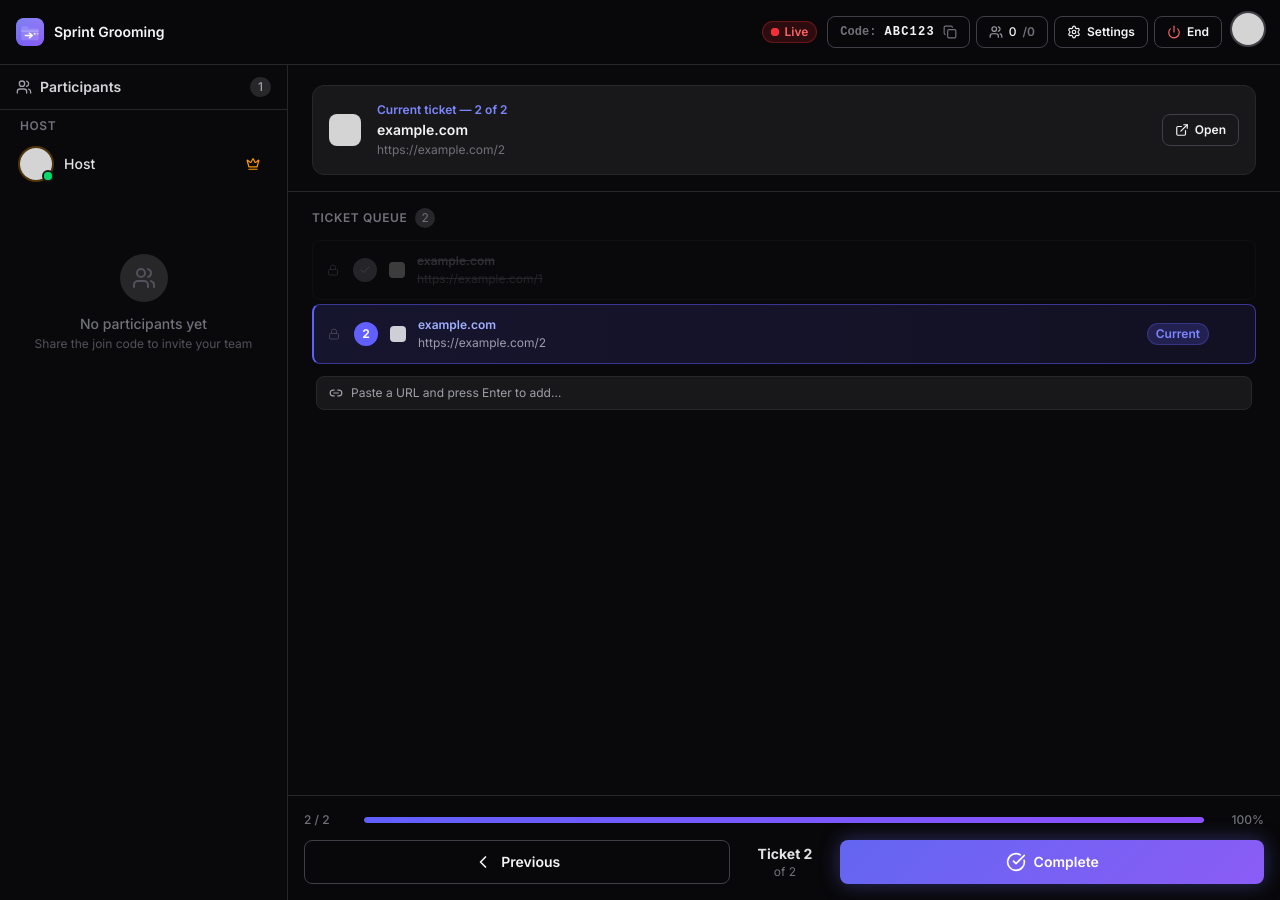
Test: HostDashboard — grooming complete › shows Completed badge after Complete is clicked
The width and height of the screenshot is (1280, 900).
Click the button "Complete" at x=1052, y=862, box x1=840 y1=840 x2=1264 y2=884
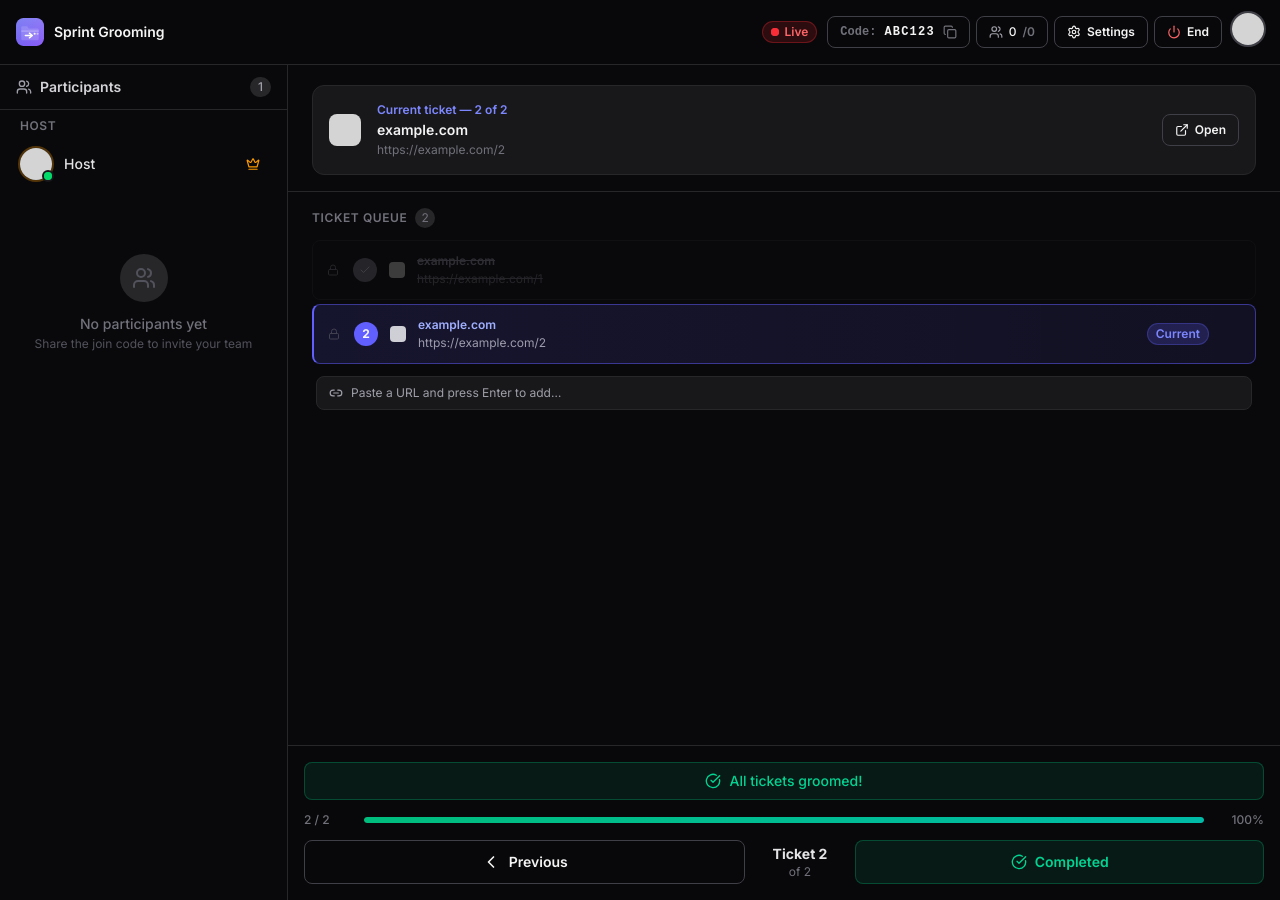
Check: the text "All tickets groomed!" is shown, box x1=304 y1=762 x2=1264 y2=800
